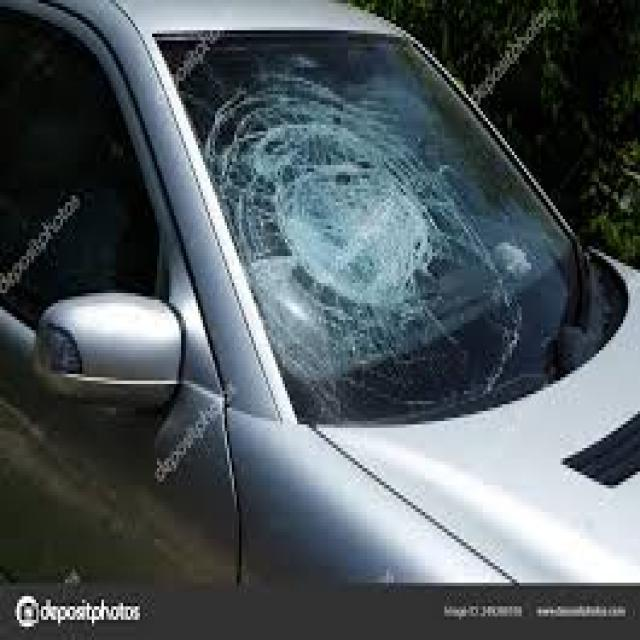damaged-windscreen: (152, 20, 618, 412)
